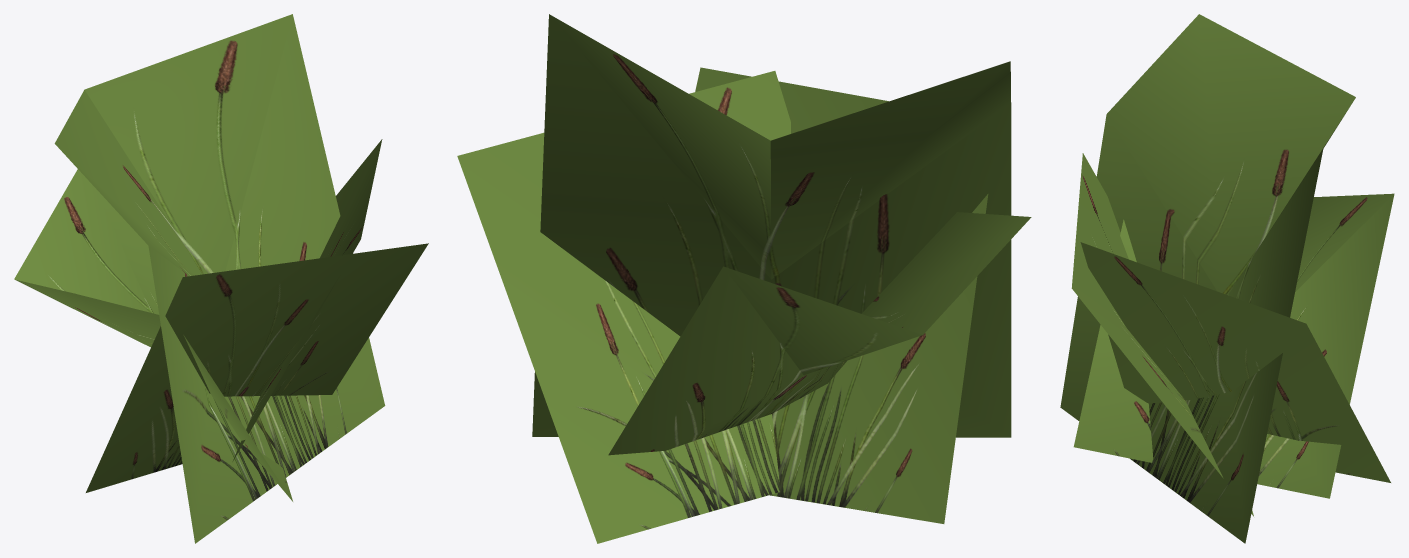
Rendered from cattail_lod1.fbx.
3 views of the same model, side by side, from view 1: azimuth 30°, elevation 25°; view 2: azimuth 150°, elevation 25°; view 3: azimuth 270°, elevation 25° (orthographic). The views are drawn at different scales.
Visible parts, largest first — view 1: Mesh Object; view 2: Mesh Object; view 3: Mesh Object.
Part boxes in pixels (box(x1,y1,x2,y2)): Mesh Object: box(14, 14, 428, 543); Mesh Object: box(457, 14, 1031, 543); Mesh Object: box(1060, 14, 1394, 543).
Size of the model in its own units: 2.34 by 2.23 by 1.8.
